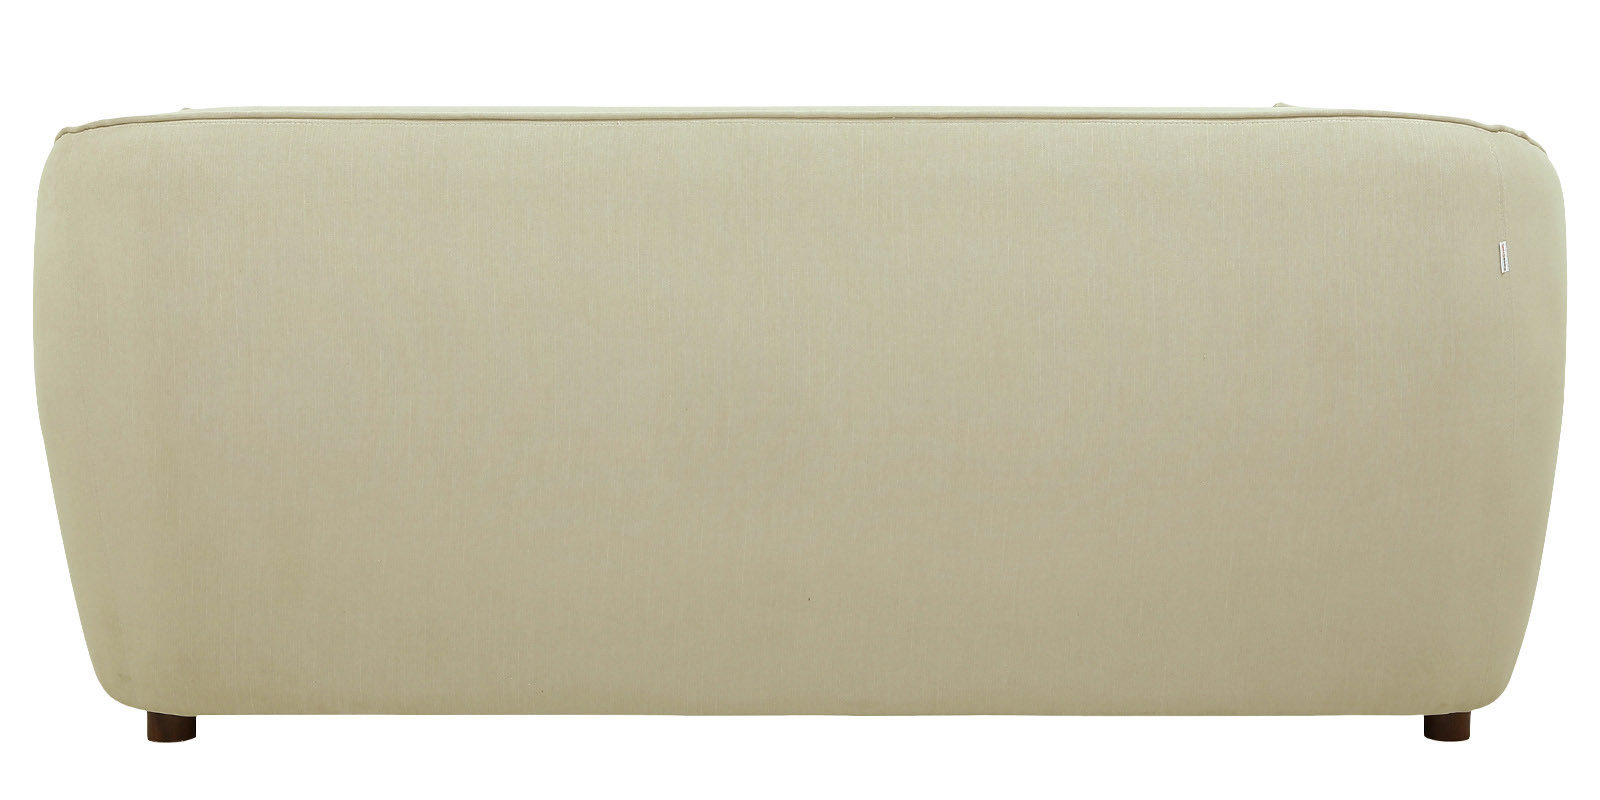Mamore Three Seater Sofa in Beige Color by CasaCraft: (31, 103, 1564, 742)
